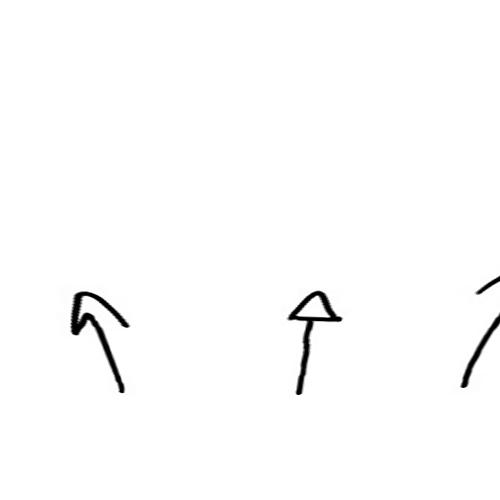arrow: (70, 286, 132, 392), (288, 280, 340, 397), (454, 271, 500, 385)
